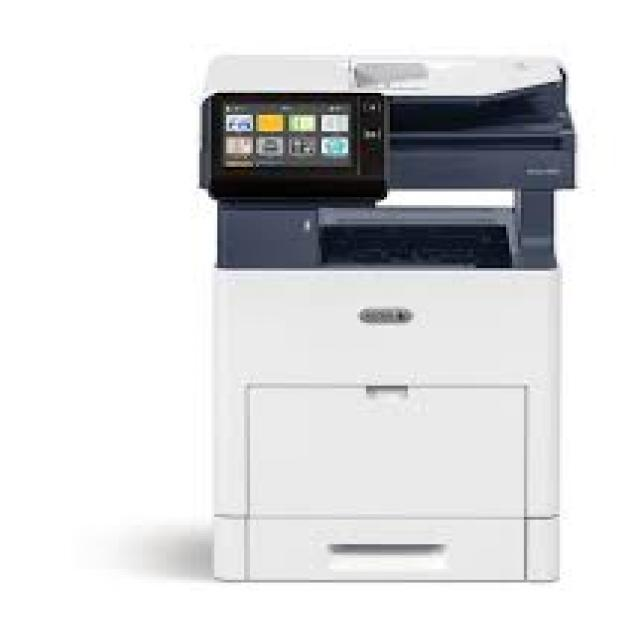printer: (130, 27, 606, 618)
